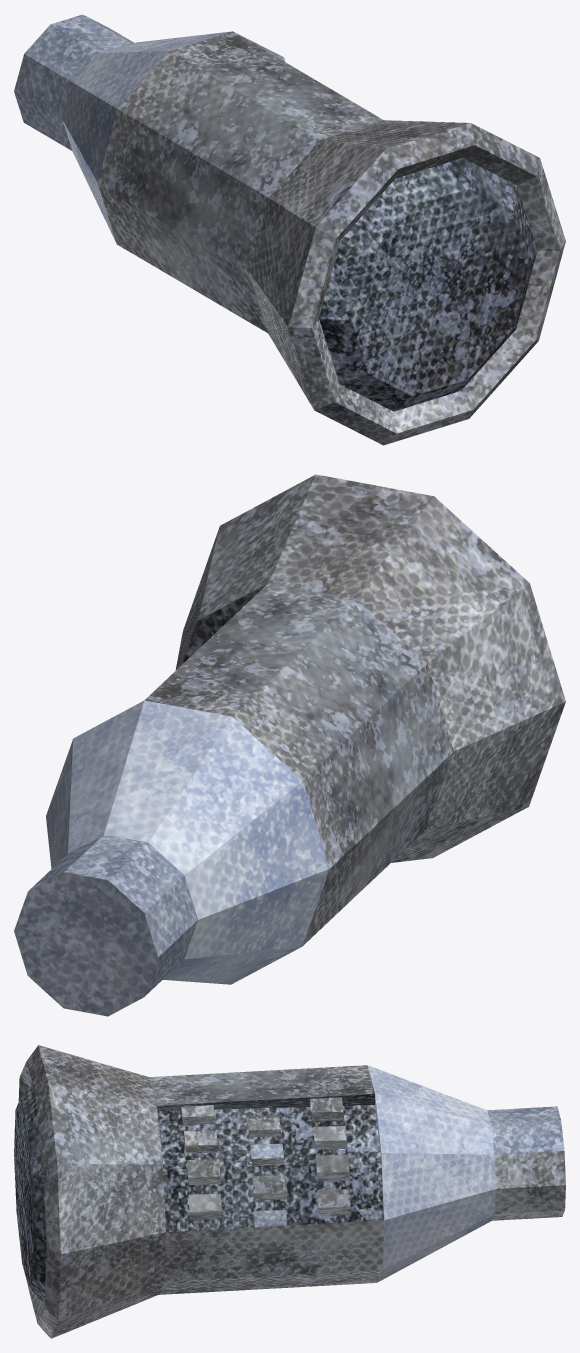
The model's file is transmission.fbx.
3 renders of one model, top to bottom at view 1: azimuth 30°, elevation 25°; view 2: azimuth 150°, elevation 25°; view 3: azimuth 270°, elevation 25°, orthographic. The views are drawn at different scales.
Parts seen in each view (by area): view 1: Cylinder; view 2: Cylinder; view 3: Cylinder.
Boxes of the visible parts, x1,y1,x2,y2 form: Cylinder: (14,14,565,445); Cylinder: (14,474,565,1016); Cylinder: (14,1045,565,1338).
Bounding box in the file's own units: 268 × 257 × 503.
